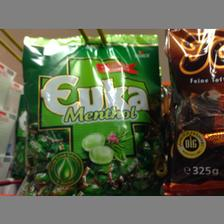Suessigkeit: (20, 35, 162, 193)
